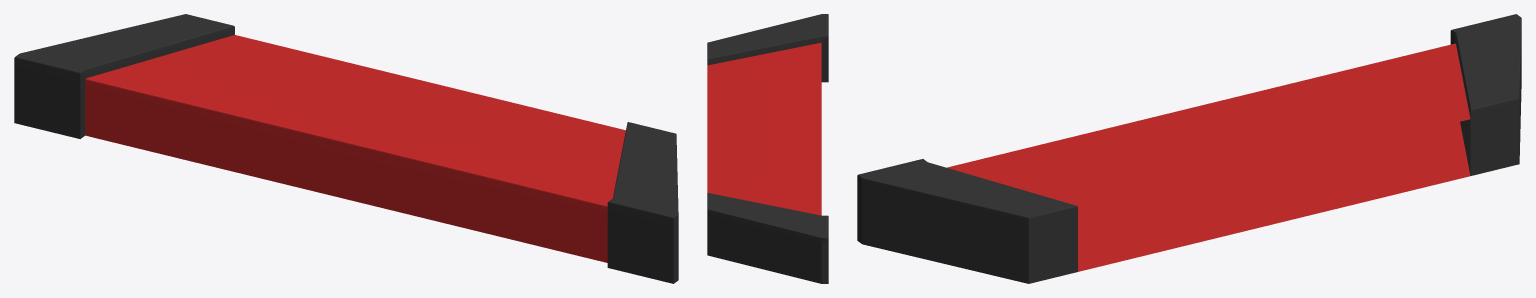
The model's file is Balcao.fbx.
3 renders of one model, left to right at view 1: azimuth 30°, elevation 25°; view 2: azimuth 150°, elevation 25°; view 3: azimuth 270°, elevation 25°, orthographic. The views are drawn at different scales.
Visible parts, largest first — view 1: polySurface106, polySurface107; view 2: polySurface106, polySurface107; view 3: polySurface106, polySurface107.
Boxes of the visible parts, x1=… form: polySurface106: x1=85, y1=35, x2=625, y2=262; polySurface107: x1=14, y1=14, x2=678, y2=283; polySurface106: x1=707, y1=43, x2=821, y2=215; polySurface107: x1=707, y1=14, x2=828, y2=283; polySurface106: x1=947, y1=43, x2=1470, y2=271; polySurface107: x1=857, y1=14, x2=1521, y2=283.
Size of the model in its own units: 5.02 by 0.7633 by 6.91.
2 materials, 2 textured.
